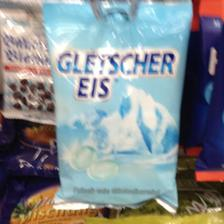Suessigkeit: (43, 1, 190, 209)
